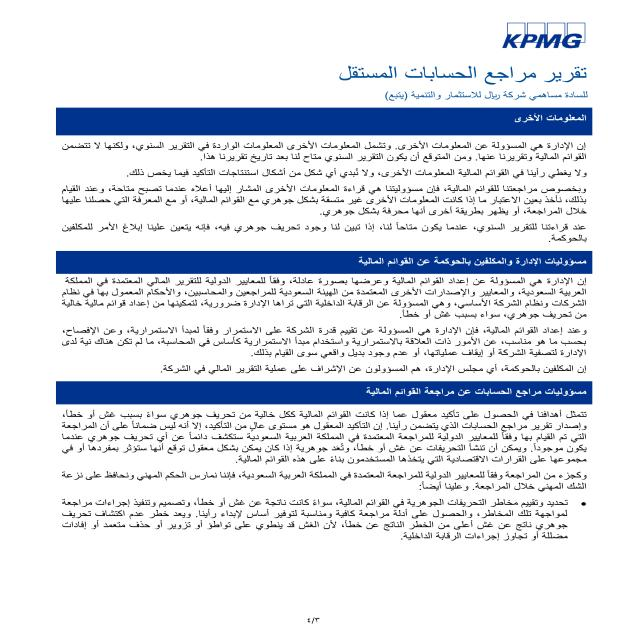auditor_report: (334, 54, 596, 88)
